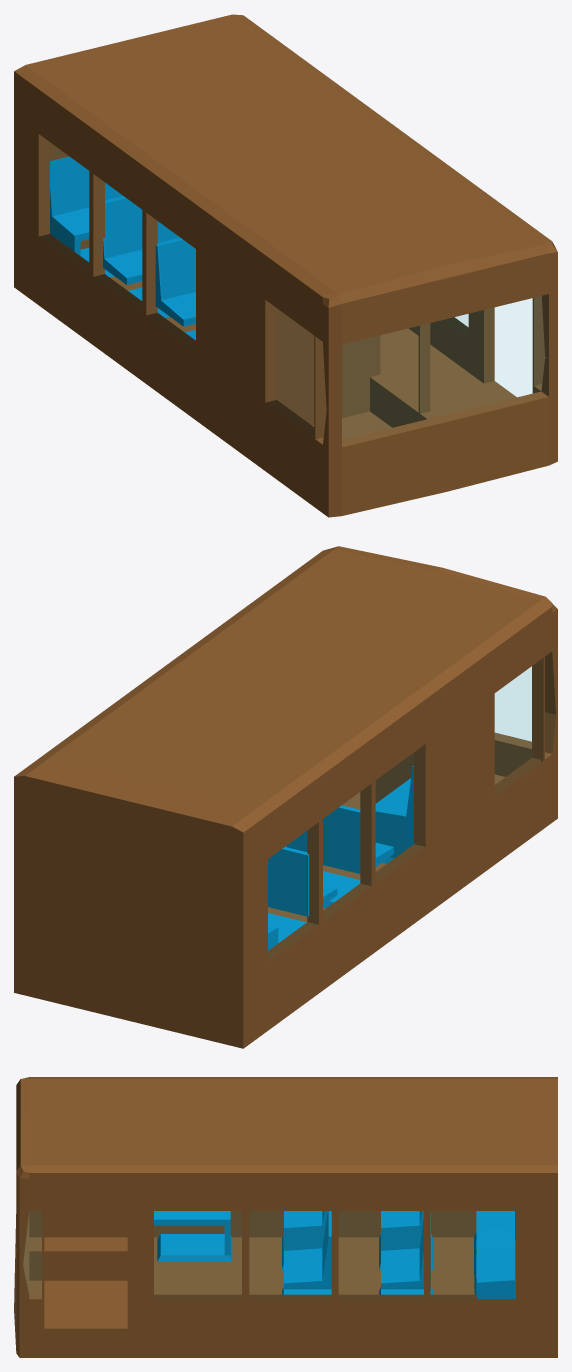
File: Bus.fbx
3 renders of one model, top to bottom at view 1: azimuth 30°, elevation 25°; view 2: azimuth 150°, elevation 25°; view 3: azimuth 270°, elevation 25°, orthographic. The views are drawn at different scales.
Visible parts, largest first — view 1: Cube; view 2: Cube; view 3: Cube.
Boxes of the visible parts, box(x1,y1,x2,y2) form: Cube: box(14, 14, 557, 517); Cube: box(14, 546, 557, 1048); Cube: box(14, 1077, 557, 1357).
Bounding box in the file's own units: 700 × 651 × 1679.
